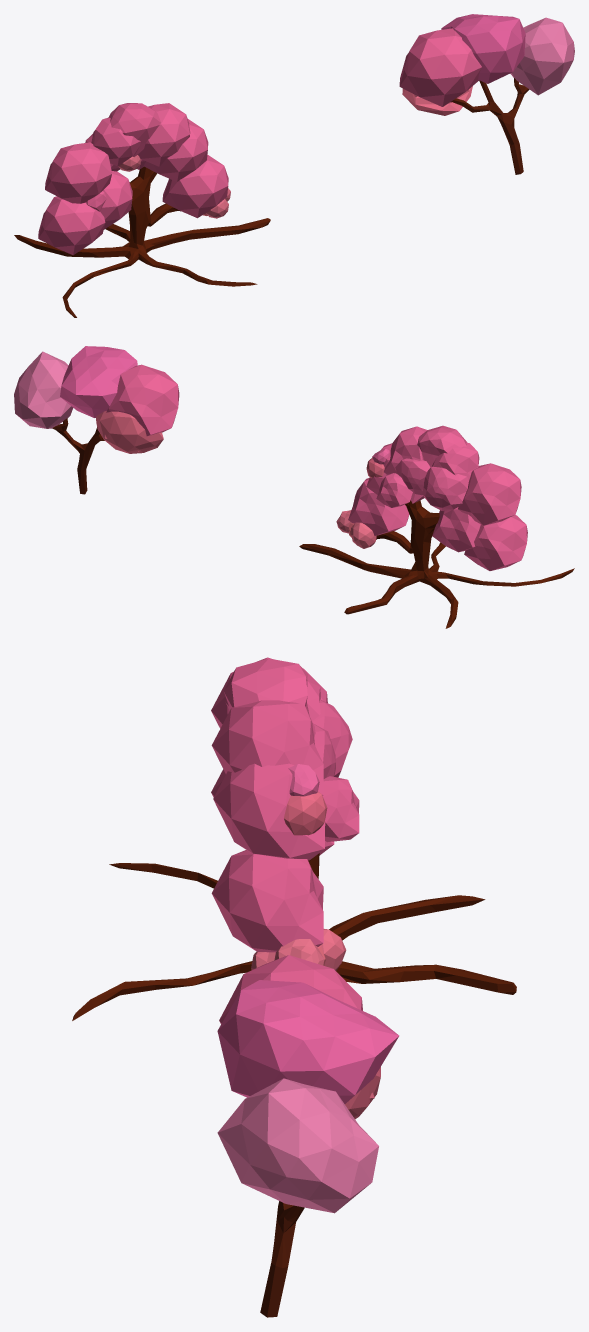
File: sakura2.fbx
3 views of the same model, one above another, from view 1: azimuth 30°, elevation 25°; view 2: azimuth 150°, elevation 25°; view 3: azimuth 270°, elevation 25° (orthographic). The views are drawn at different scales.
Visible parts, largest first — view 1: Куб.001, Икосфера.001, Икосфера, Икосфера.003, Икосфера.021, Икосфера.022, Икосфера.025, Икосфера.020, Икосфера.026, Икосфера.013, Куб, Икосфера.007 (+2 smaller); view 2: Куб.001, Икосфера, Икосфера.001, Икосфера.003, Икосфера.021, Икосфера.022, Икосфера.002, Икосфера.025, Икосфера.011, Икосфера.010, Икосфера.013, Икосфера.020 (+5 smaller); view 3: Икосфера, Икосфера.003, Икосфера.025, Куб.001, Икосфера.026, Икосфера.020, Икосфера.013, Икосфера.001, Куб, Икосфера.008, Икосфера.012, Икосфера.011 (+1 smaller).
Part boxes in pixels (x1,y1,x2,y2): Куб.001: (14, 166, 270, 317); Икосфера.001: (399, 28, 481, 106); Икосфера: (441, 14, 525, 83); Икосфера.003: (510, 17, 574, 95); Икосфера.021: (45, 142, 111, 203); Икосфера.022: (38, 196, 105, 255); Икосфера.025: (162, 154, 228, 218); Икосфера.020: (138, 103, 190, 166); Икосфера.026: (143, 119, 208, 181); Икосфера.013: (108, 103, 160, 156); Куб: (451, 78, 529, 174); Икосфера.007: (91, 117, 140, 166); Куб.001: (299, 500, 574, 628); Икосфера: (60, 346, 137, 417); Икосфера.001: (106, 364, 179, 436); Икосфера.003: (14, 351, 72, 428); Икосфера.021: (458, 463, 521, 525); Икосфера.022: (464, 514, 527, 570); Икосфера.002: (96, 411, 163, 453); Икосфера.025: (348, 478, 409, 535); Икосфера.011: (422, 466, 468, 510); Икосфера.010: (432, 507, 480, 552); Икосфера.013: (417, 425, 467, 467); Икосфера.020: (384, 426, 427, 474); Икосфера: (217, 980, 399, 1103); Икосфера.003: (217, 1078, 378, 1213); Икосфера.025: (211, 850, 323, 952); Куб.001: (72, 853, 516, 1020); Икосфера.026: (213, 763, 325, 860); Икосфера.020: (211, 700, 323, 795); Икосфера.013: (223, 658, 309, 714); Икосфера.001: (219, 955, 362, 1024); Куб: (260, 1201, 304, 1317); Икосфера.008: (322, 776, 359, 842); Икосфера.012: (284, 791, 327, 835); Икосфера.011: (312, 699, 352, 777).
Size of the model in its own units: 1488 by 421 by 562.
